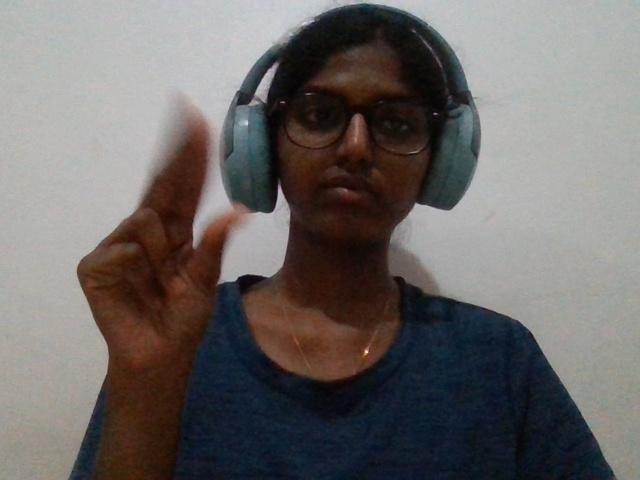No: (39, 76, 323, 421)
